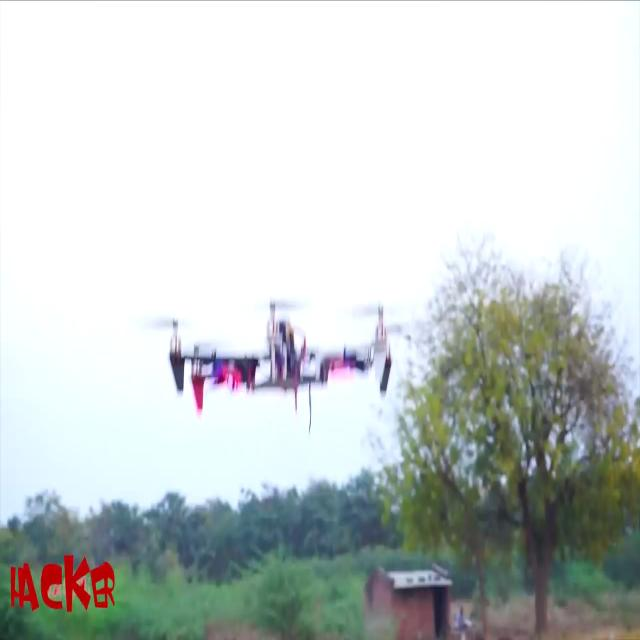drone: (110, 253, 441, 444)
